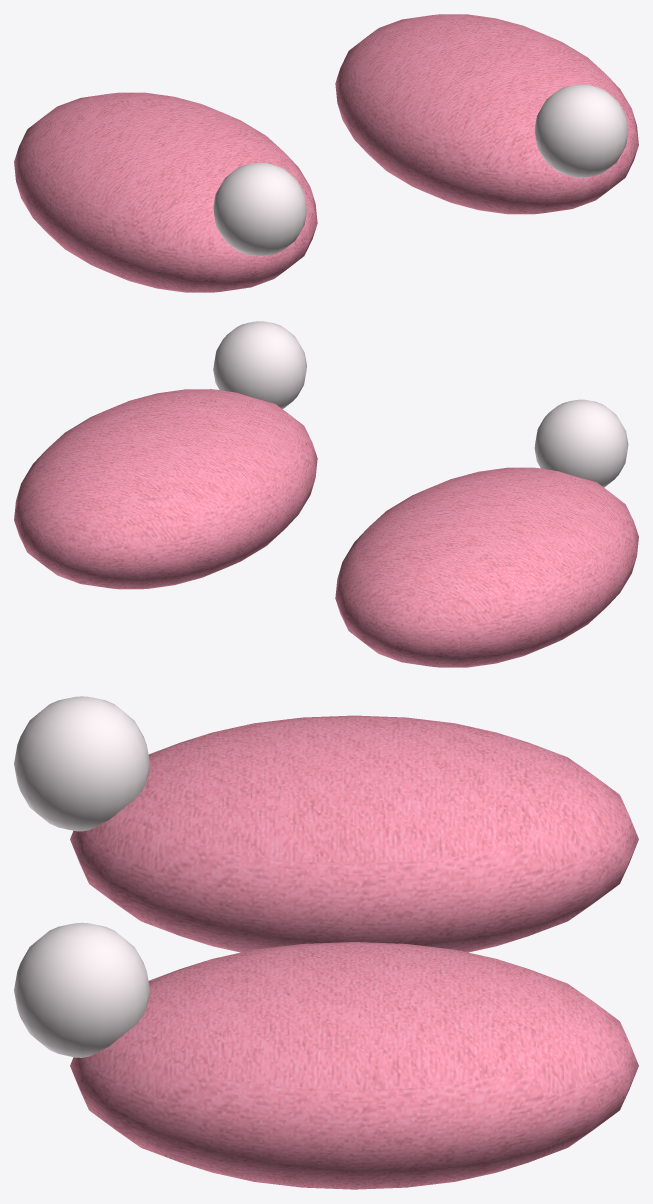
Rendered from slippers1.fbx.
3 views of the same model, one above another, from view 1: azimuth 30°, elevation 25°; view 2: azimuth 150°, elevation 25°; view 3: azimuth 270°, elevation 25° (orthographic). The views are drawn at different scales.
Visible parts, largest first — view 1: slippers1; view 2: slippers1; view 3: slippers1.
Part boxes in pixels (x1,y1,x2,y2): slippers1: (14,14,638,292); slippers1: (14,321,638,667); slippers1: (14,696,638,1189).
Bounding box in the file's own units: 0.61 × 0.16 × 0.413.
2 materials, 1 textured.
